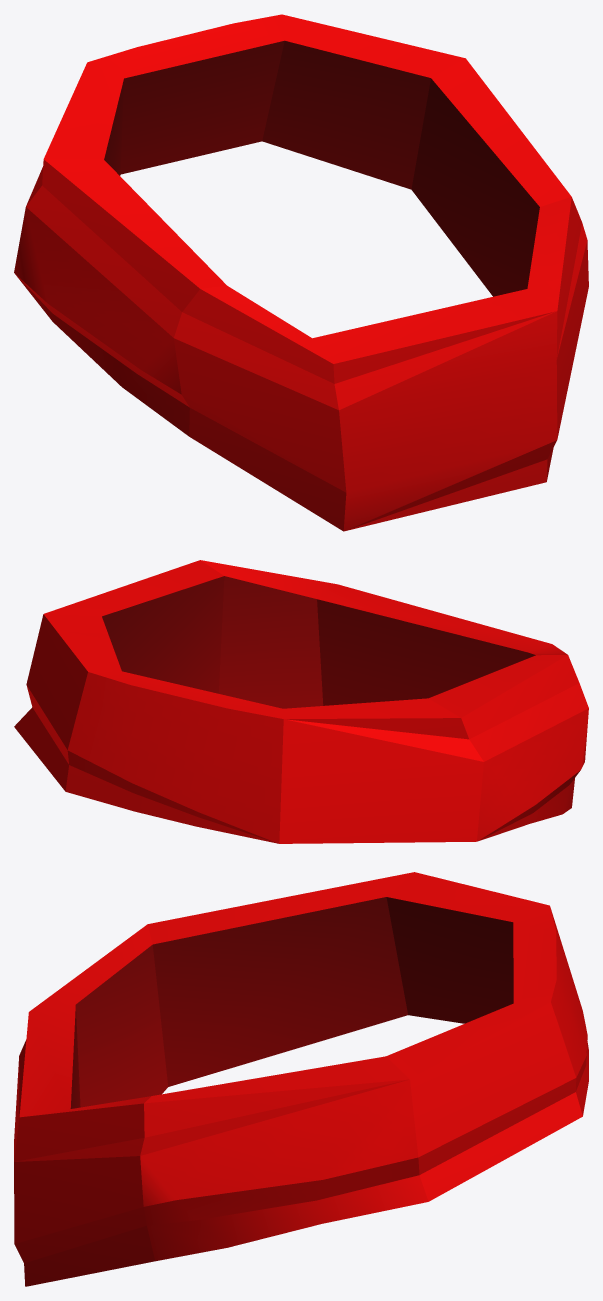
The model's file is Blindfold_M.fbx.
3 renders of one model, top to bottom at view 1: azimuth 30°, elevation 25°; view 2: azimuth 150°, elevation 25°; view 3: azimuth 270°, elevation 25°, orthographic.
Visible parts, largest first — view 1: Blindfold_M; view 2: Blindfold_M; view 3: Blindfold_M.
Part boxes in pixels (x1,y1,x2,y2): Blindfold_M: (14, 14, 588, 531); Blindfold_M: (14, 560, 588, 843); Blindfold_M: (14, 872, 588, 1286).
Size of the model in its own units: 26.92 by 14.6 by 26.94.
